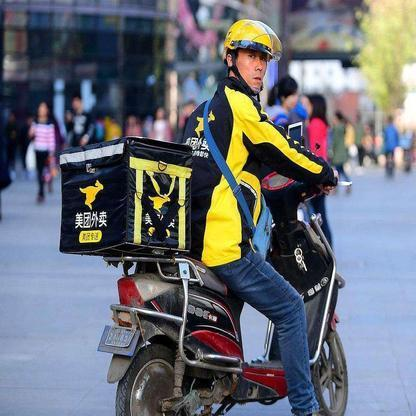target: (54, 17, 356, 412)
